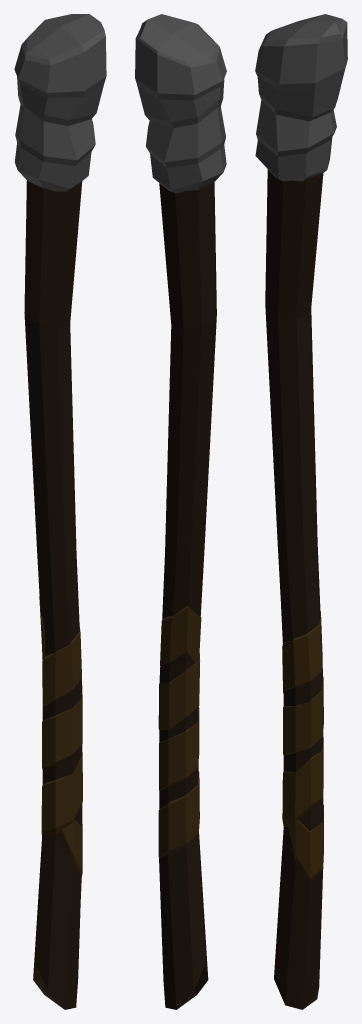
Rendered from antorcha.obj.
3 views of the same model, side by side, from view 1: azimuth 30°, elevation 25°; view 2: azimuth 150°, elevation 25°; view 3: azimuth 330°, elevation 25° (orthographic).
Bounding box in the file's own units: 0.32 × 3.46 × 0.2932.
